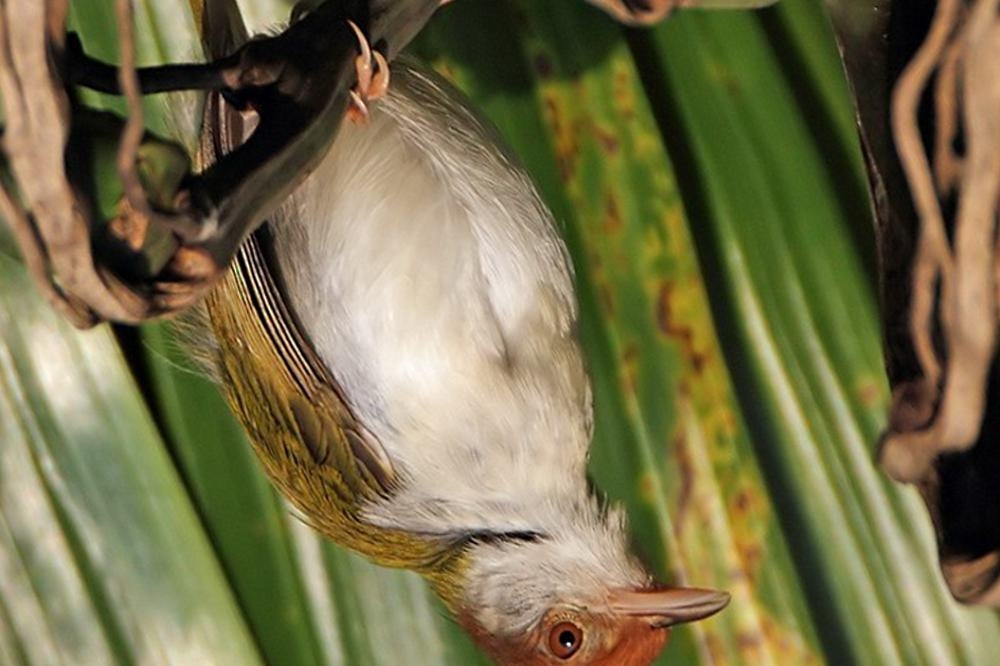tailorbird: (199, 75, 743, 659)
